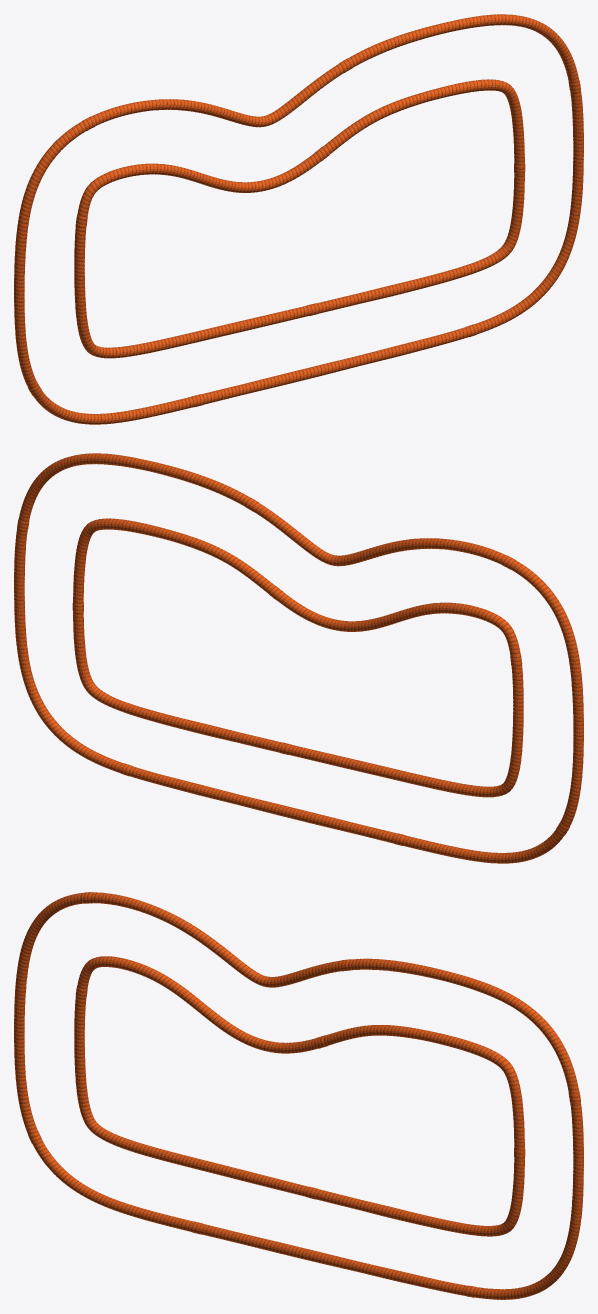
The model's file is ducts.obj.
3 renders of one model, top to bottom at view 1: azimuth 30°, elevation 25°; view 2: azimuth 150°, elevation 25°; view 3: azimuth 330°, elevation 25°, orthographic.
Bounding box in the file's own units: 15.8 × 8.56 × 0.2769.
1 material, 1 textured.
